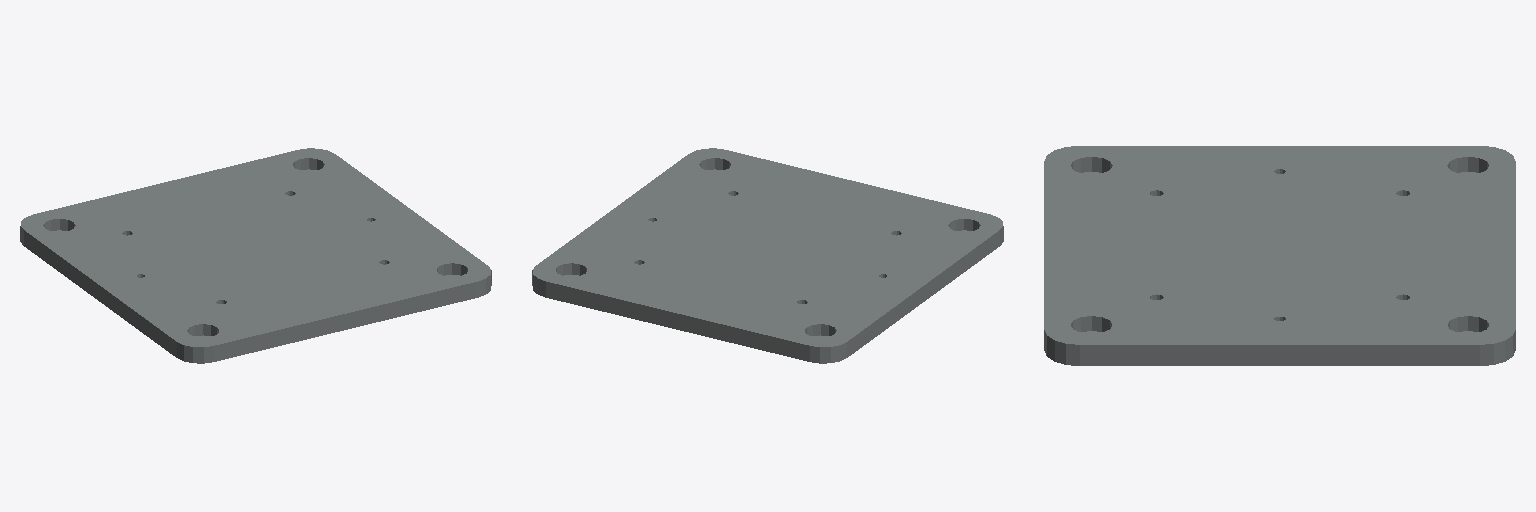
robot.urdf — table:
<?xml version="1.0" encoding="utf-8"?>
<!-- This URDF was automatically created by SolidWorks to URDF Exporter! Originally created by [author] ([email redacted]) 
     Commit Version: 1.6.0-4-g7f85cfe  Build Version: 1.6.7995.38578
     For more information, please see http://wiki.ros.org/sw_urdf_exporter -->
<robot
  name="table">
  <link
    name="table_base_link">
    <inertial>
      <origin
        xyz="0.302 0.89235 0.60135"
        rpy="0 0 0" />
      <mass
        value="189.62" />
      <inertia
        ixx="35.646"
        ixy="0.00096487"
        ixz="0.0011571"
        iyy="18.384"
        iyz="-0.00023075"
        izz="36.698" />
    </inertial>
    <visual>
      <origin
        xyz="0 0 0"
        rpy="0 0 0" />
      <geometry>
        <mesh
          filename="package://table/meshes/table_base_link.STL" />
      </geometry>
      <material
        name="">
        <color
          rgba="0.75294 0.75294 0.75294 1" />
      </material>
    </visual>
    <collision>
      <origin
        xyz="0 0 0"
        rpy="0 0 0" />
      <geometry>
        <mesh
          filename="package://table/meshes/table_base_link.STL" />
      </geometry>
    </collision>
  </link>
  <link
    name="table_link">
    <inertial>
      <origin
        xyz="0 2.2204E-16 -0.0050153"
        rpy="0 0 0" />
      <mass
        value="3.0269" />
      <inertia
        ixx="0.0098356"
        ixy="-2.8639E-19"
        ixz="-4.5673E-20"
        iyy="0.0098188"
        iyz="1.6276E-18"
        izz="0.019604" />
    </inertial>
    <visual>
      <origin
        xyz="0 0 0"
        rpy="0 0 0" />
      <geometry>
        <mesh
          filename="package://table/meshes/table_link.STL" />
      </geometry>
      <material
        name="">
        <color
          rgba="0.52941 0.54902 0.54902 1" />
      </material>
    </visual>
    <collision>
      <origin
        xyz="0 0 0"
        rpy="0 0 0" />
      <geometry>
        <mesh
          filename="package://table/meshes/table_link.STL" />
      </geometry>
    </collision>
  </link>
  <joint
    name="table_base_table_joint"
    type="fixed">
    <origin
      xyz="0.2 1.14 1.01"
      rpy="0 0 0" />
    <parent
      link="table_base_link" />
    <child
      link="table_link" />
    <axis
      xyz="0 0 0" />
  </joint>
</robot>

--- Facts derived from the render (not from the file) ---
3 views of the same robot in one strip: view 1: azimuth 30°, elevation 25°; view 2: azimuth 150°, elevation 25°; view 3: azimuth 270°, elevation 25° (orthographic).
Robot: table — 2 links, 1 joints (1 fixed); root link table_base_link; default pose: every joint at zero.
Visible links, largest first — view 1: table_link; view 2: table_link; view 3: table_link.
Boxes of the visible links, x1=… form: table_link: x1=20, y1=148, x2=491, y2=363; table_link: x1=532, y1=148, x2=1003, y2=363; table_link: x1=1044, y1=146, x2=1515, y2=365.
Bounding box of the posed robot: 0.2 × 0.2 × 0.01 m (x, y, z).
1 mesh visuals loaded from 2 distinct referenced files (1 binary STL); not drawn: 1 (reference not matched to a file when rendering).